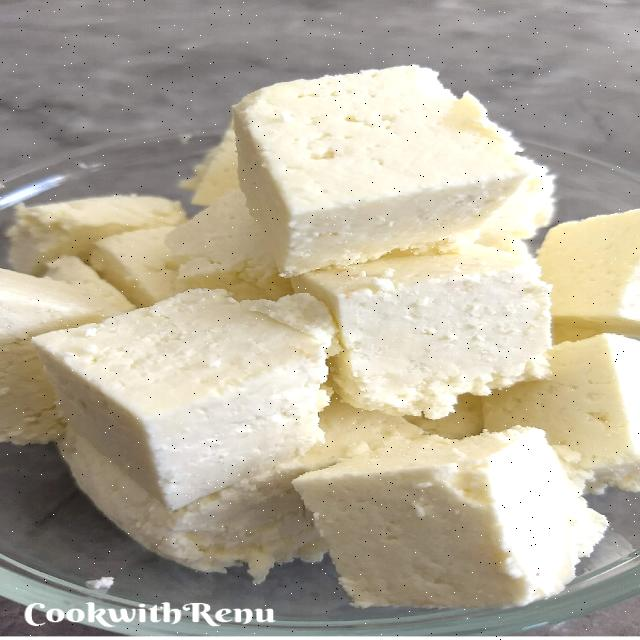Paneer: (0, 66, 638, 591)
